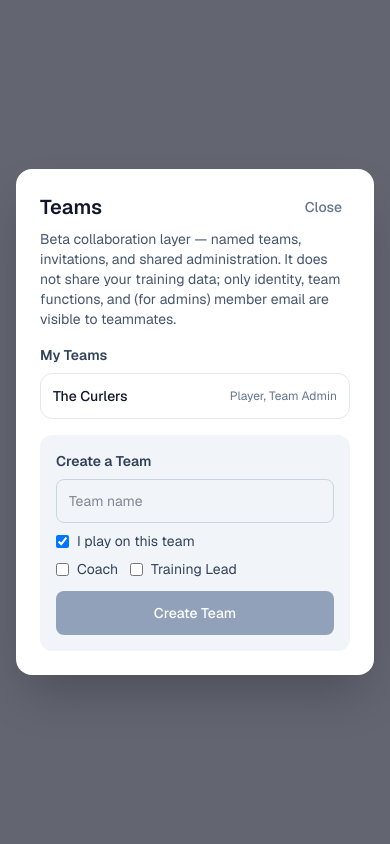
Scenario: TeamsScreen — signed in › lets a Team Admin remove another member's Team Admin function, with confirmation (spec §6)
The width and height of the screenshot is (390, 844).
What coordinates should you click on to do the following:
click the text "The Curlers"
I would click on:
 (90, 396)
Its box is [53,386,128,406].
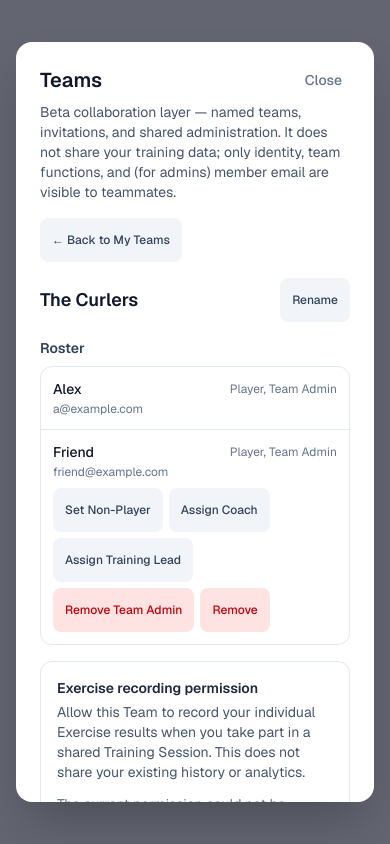
Check: the heading "Roster" is shown, box [40,339,85,357]
Check: the text "Friend" is shown, box [53,442,94,462]
Check: the button "Remove Team Admin" is shown
What coordinates should you click on to do the following:
click the button "Remove Team Admin"
I would click on:
 (124, 610)
Its box is [53,588,194,632].
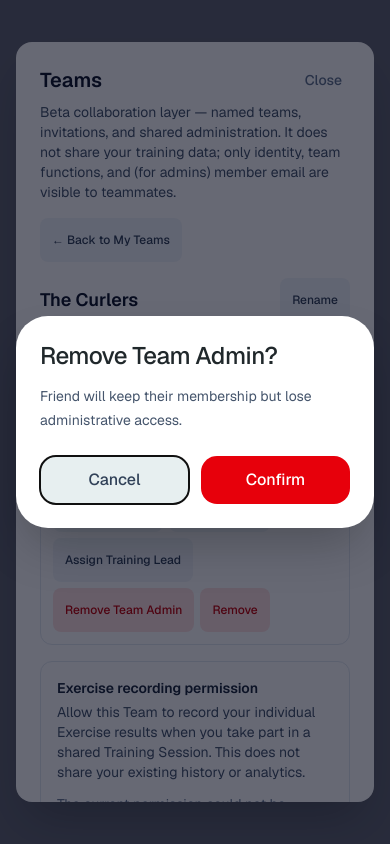
Check: the heading "Remove Team Admin?" is shown, box [40,340,277,371]
What coordinates should you click on to do the following:
click the button "Cancel"
I would click on:
 (114, 480)
Its box is [40,456,189,504].
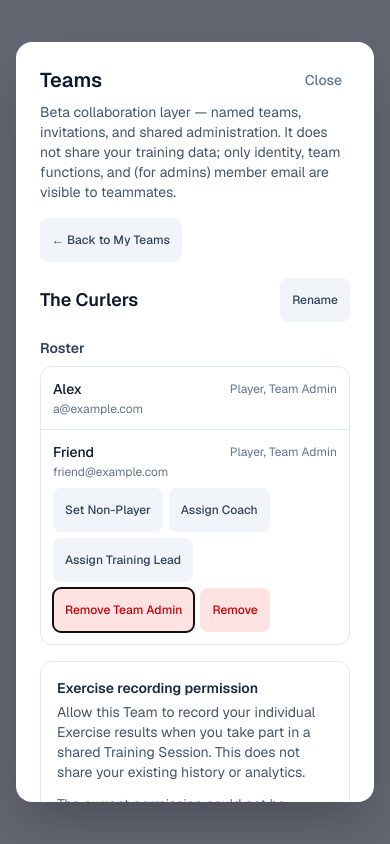
Check: the button "Remove Team Admin" is shown
What coordinates should you click on to do the following:
click the button "Remove Team Admin"
I would click on:
 (124, 610)
Its box is [53,588,194,632].
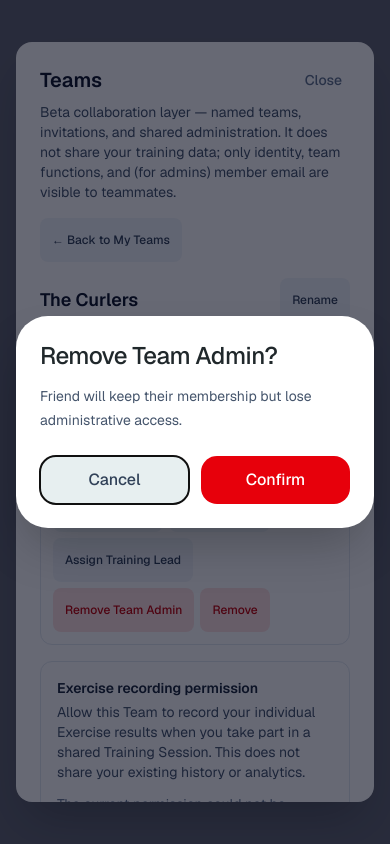
Check: the heading "Remove Team Admin?" is shown, box [40,340,277,371]
What coordinates should you click on to do the following:
click the button "Confirm"
I would click on:
 (276, 480)
Its box is [201,456,350,504].
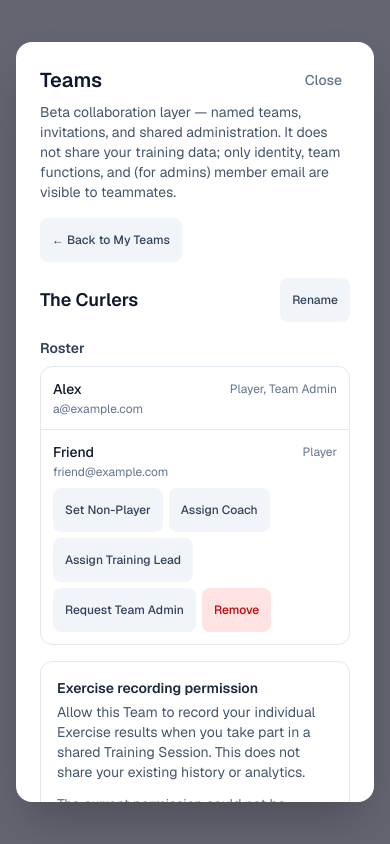
Check: the button "Remove Team Admin" is gone
Check: the button "Request Team Admin" is shown, box [53,588,196,632]
